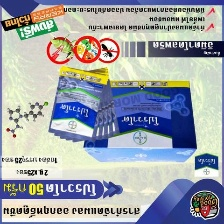book: (80, 78, 199, 164)
insecticide: (45, 63, 111, 143)
